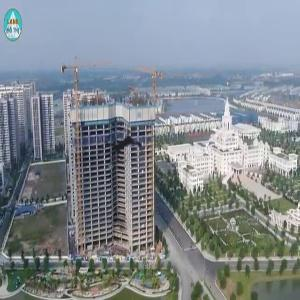drone: (88, 113, 162, 187)
